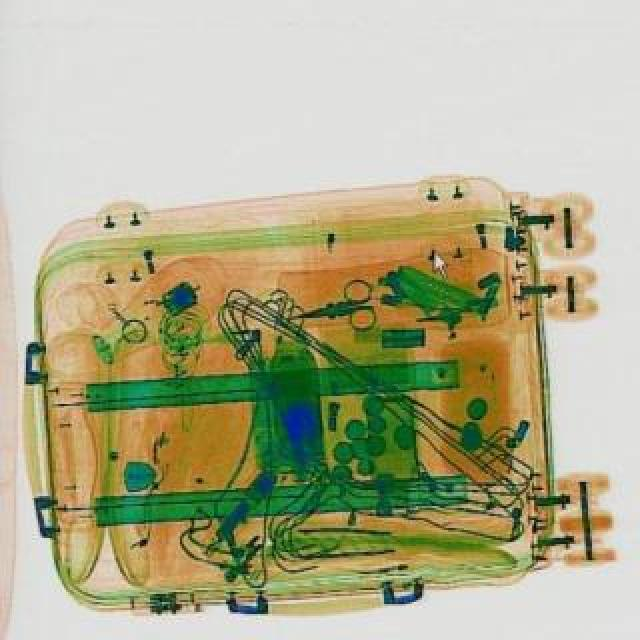pliers: (284, 274, 376, 340)
